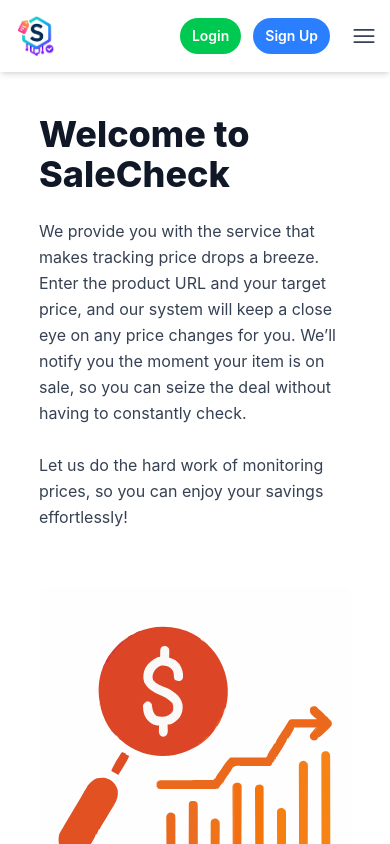
Test: App › toggles the mobile nav when the hamburger button is clicked
Click the 3rd button: click(364, 36) 350,22 -> 378,50
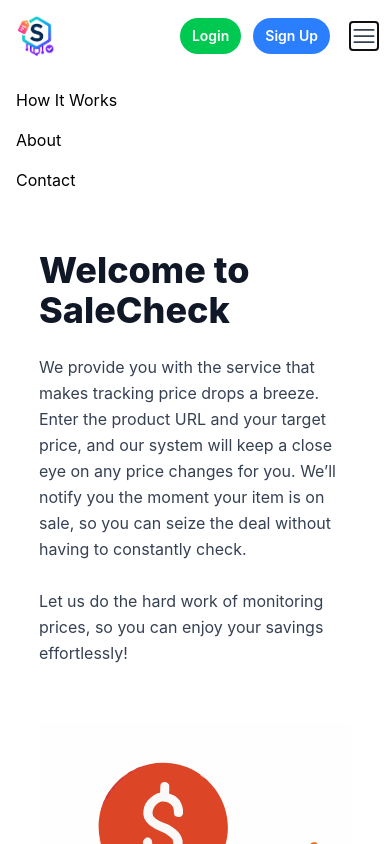
Check: the number of links "Contact" is 2
